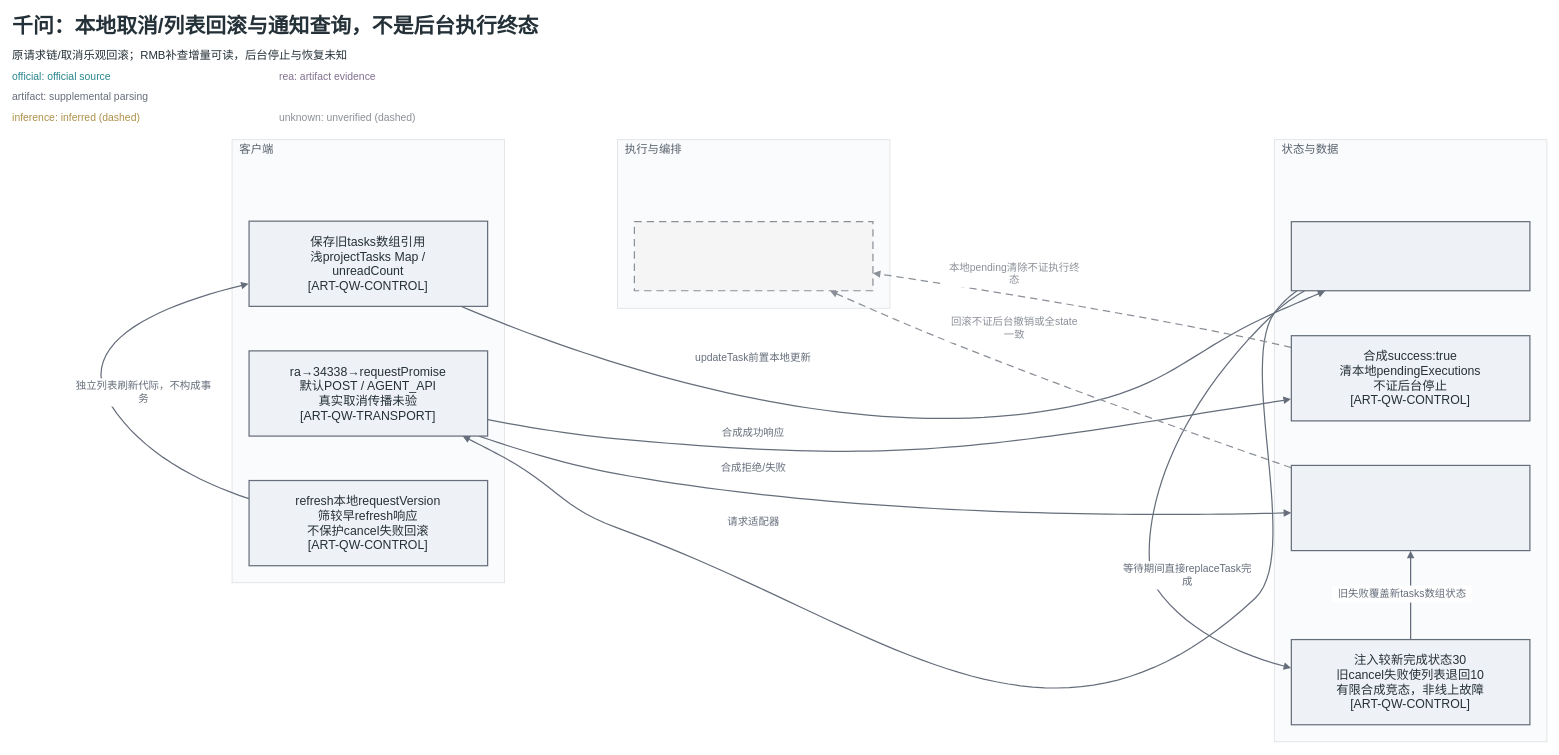
The diagram is 1559 pixels wide and 755 high, and some of its shapes have lost their labels. Here are the shapes that lost their labels. From the top down, the box of each, then its label:
(633, 221, 873, 291): 未知：HTTP/真实订阅与执行 后台权威版本/取消传播 Sandbox与AgentRun部署关联
(1290, 221, 1530, 291): 更新列表normal_cancel 尚未等API响应 [ART-QW-CONTROL]
(1290, 464, 1530, 551): success:false/异常 恢复旧数组/Map/未读数 不统一回滚详情或pending [ART-QW-CONTROL]
